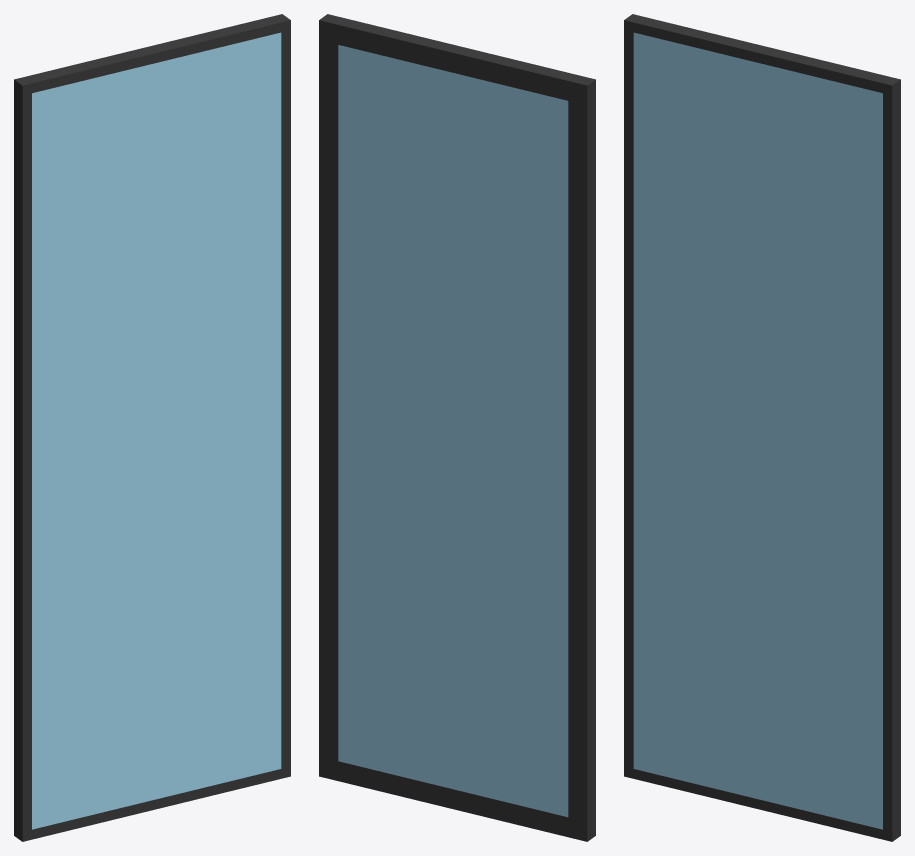
File: leftslidedoor.fbx
3 views of the same model, side by side, from view 1: azimuth 30°, elevation 25°; view 2: azimuth 150°, elevation 25°; view 3: azimuth 330°, elevation 25° (orthographic).
Parts seen in each view (by area): view 1: Plane.010; view 2: Plane.010; view 3: Plane.010.
Boxes of the visible parts, x1,y1,x2,y2 form: Plane.010: [14, 14, 290, 841]; Plane.010: [319, 14, 595, 841]; Plane.010: [624, 14, 900, 841].
Bounding box in the file's own units: 1.88 × 5.05 × 0.1021.
